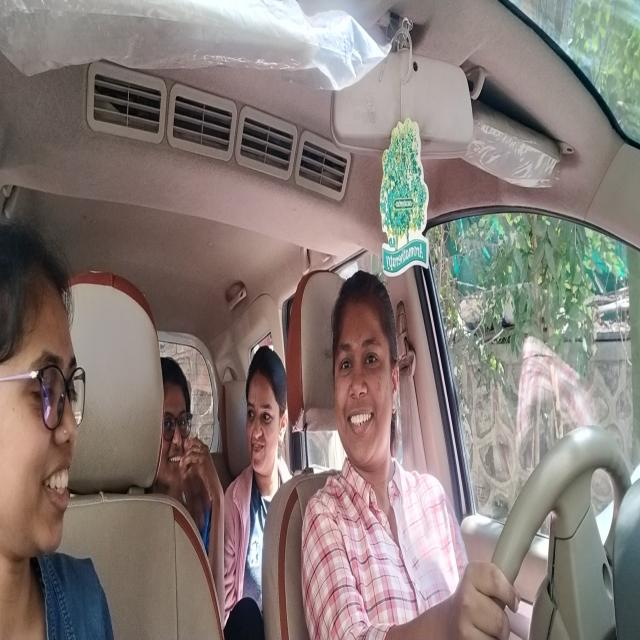LeftRight: (328, 270, 402, 475)
person: (5, 225, 82, 554), (244, 330, 286, 473), (164, 353, 194, 488)
talking: (38, 464, 73, 514), (344, 413, 378, 438)
